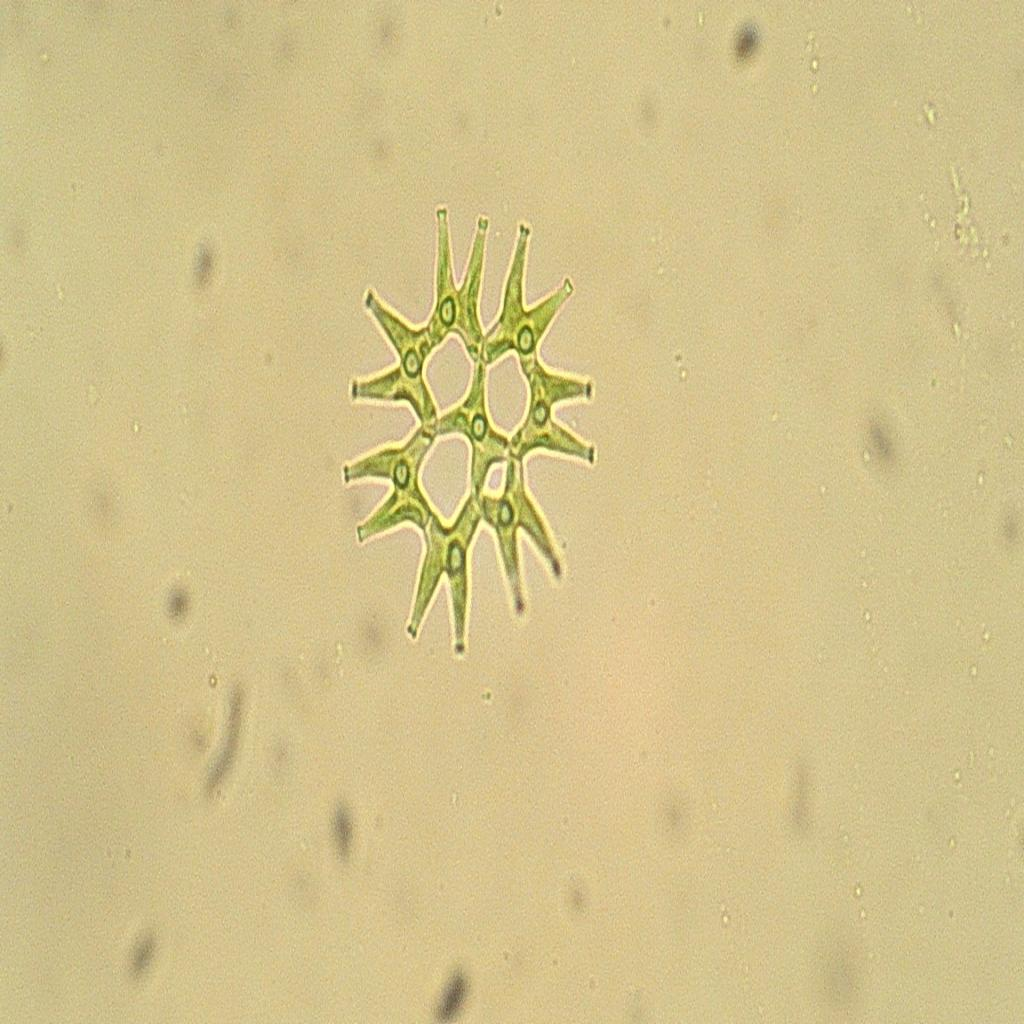Pediastrum_75T: (331, 200, 617, 676)
